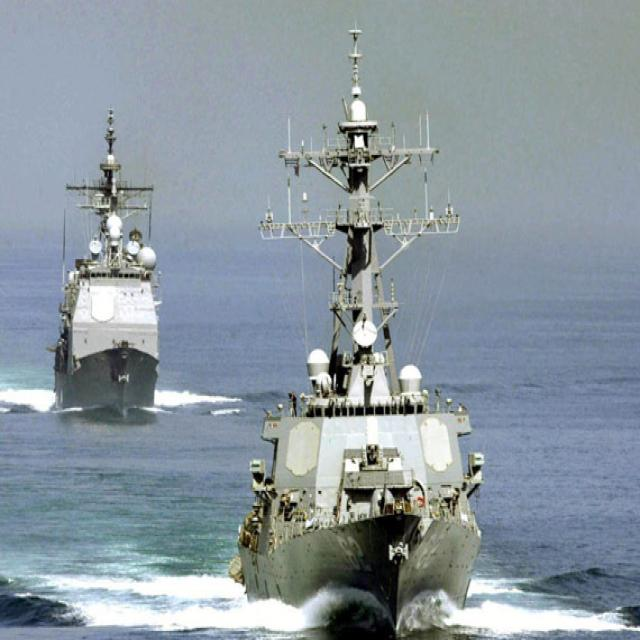navalvessels: (238, 23, 489, 620), (44, 110, 168, 420)
